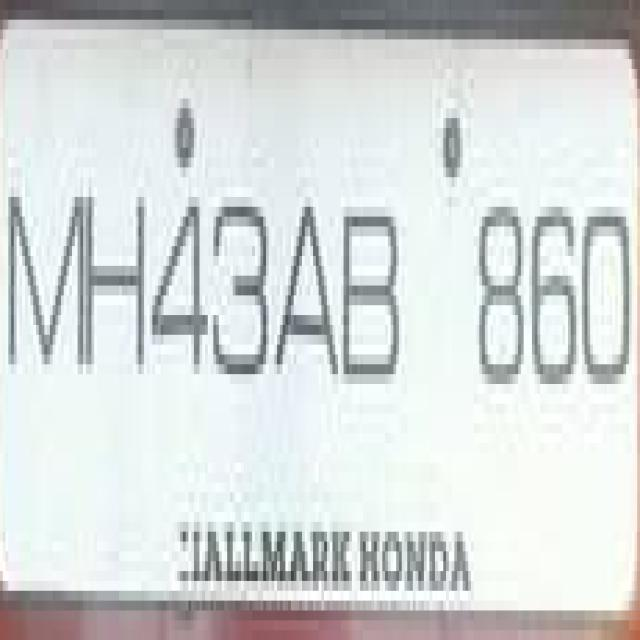license_plate: (22, 0, 640, 601)
